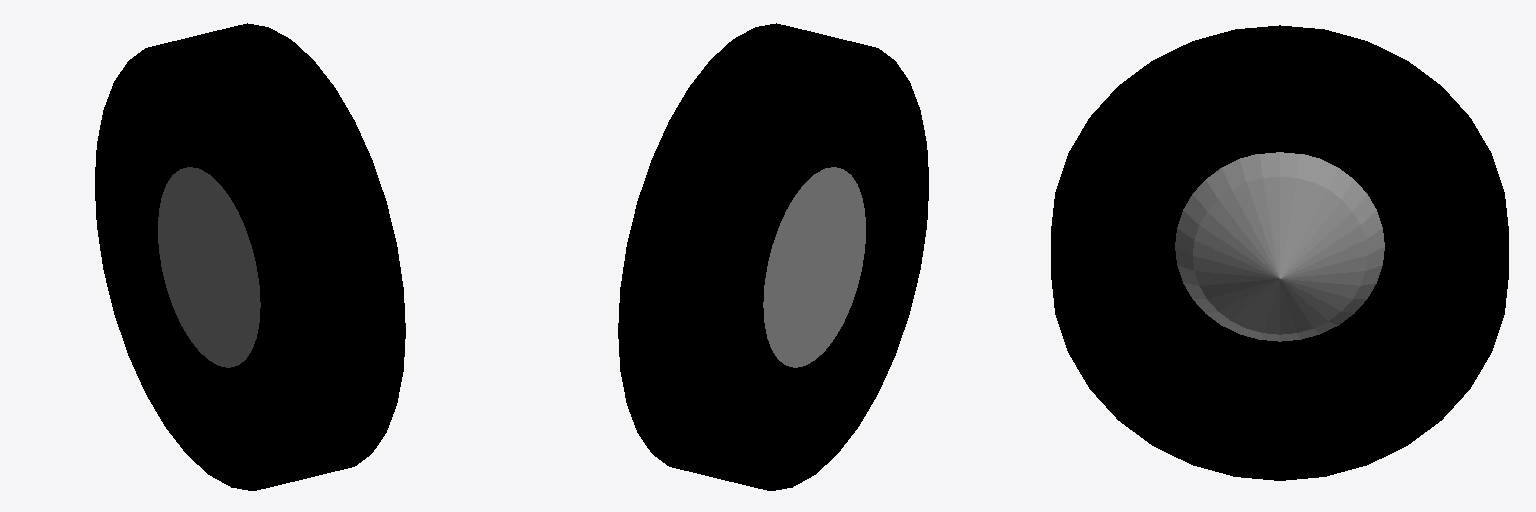
Rendered from wheel.obj.
The picture shows the model from 3 angles: view 1: azimuth 30°, elevation 25°; view 2: azimuth 150°, elevation 25°; view 3: azimuth 270°, elevation 25°; orthographic projection.
Visible parts, largest first — view 1: pneu_Cylinder, calota_Cylinder.002; view 2: pneu_Cylinder, calota_Cylinder.002; view 3: pneu_Cylinder, calota_Cylinder.002.
Boxes of the visible parts, box(x1,y1,x2,y2) form: pneu_Cylinder: box(95, 23, 405, 490); calota_Cylinder.002: box(158, 167, 260, 367); pneu_Cylinder: box(618, 23, 928, 490); calota_Cylinder.002: box(763, 167, 865, 367); pneu_Cylinder: box(1051, 25, 1508, 480); calota_Cylinder.002: box(1175, 152, 1384, 341).
Bounding box in the file's own units: 0.2097 × 0.8897 × 0.8897.